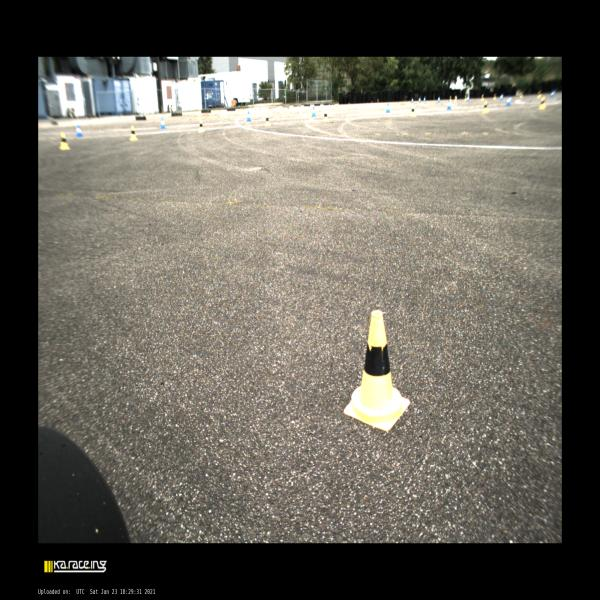blue_cone: (76, 124, 84, 137), (160, 118, 166, 129), (246, 111, 251, 122), (446, 100, 451, 110), (506, 96, 511, 106), (312, 106, 316, 117), (386, 102, 390, 112), (550, 91, 554, 98), (499, 94, 503, 100), (418, 96, 421, 103), (467, 95, 470, 102), (411, 97, 414, 103), (438, 96, 440, 102), (424, 96, 426, 102)
yellow_cone: (344, 310, 410, 431), (60, 132, 70, 150), (130, 125, 138, 141), (322, 109, 330, 122), (408, 104, 416, 117), (198, 118, 205, 132), (538, 97, 546, 109), (482, 101, 489, 113), (264, 114, 271, 126), (480, 94, 484, 101), (537, 91, 541, 98), (454, 95, 457, 102), (493, 94, 496, 100), (464, 95, 467, 101), (450, 96, 452, 102), (520, 92, 522, 98)
